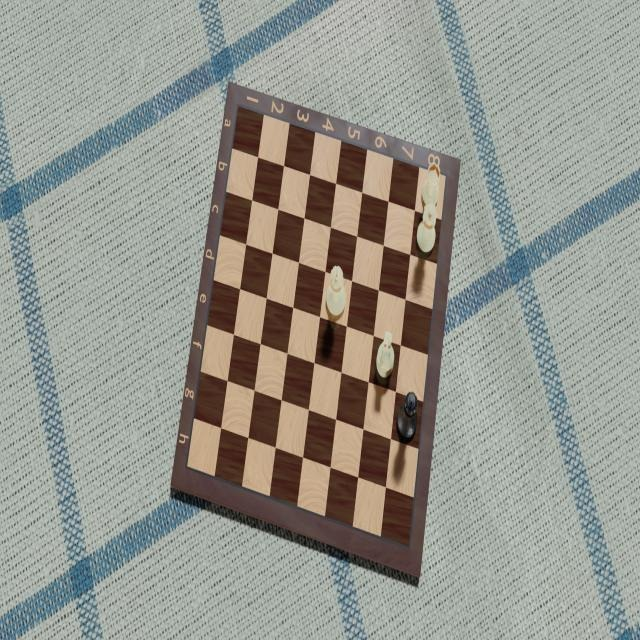black-king: (397, 390, 419, 442)
white-king: (325, 263, 348, 319)
white-knight: (376, 331, 396, 381)
white-queen: (415, 200, 440, 257)
white-rook: (421, 161, 443, 211)
